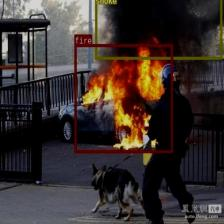fire: (74, 44, 172, 152)
smoke: (95, 0, 221, 59)
